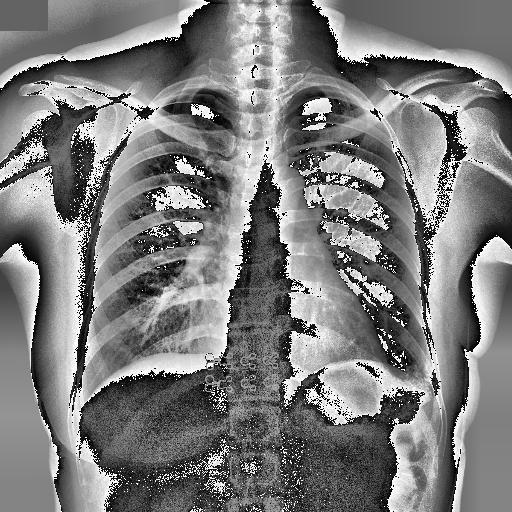11- Pleural thickening: (314, 84, 354, 98)
2- Calcification: (379, 362, 441, 422)
9- Other lesion: (379, 363, 445, 425), (380, 362, 440, 426), (379, 362, 441, 422)
